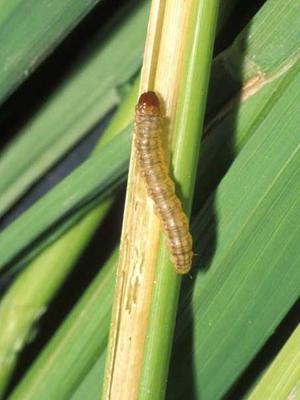caterpillars: (109, 76, 234, 303)
